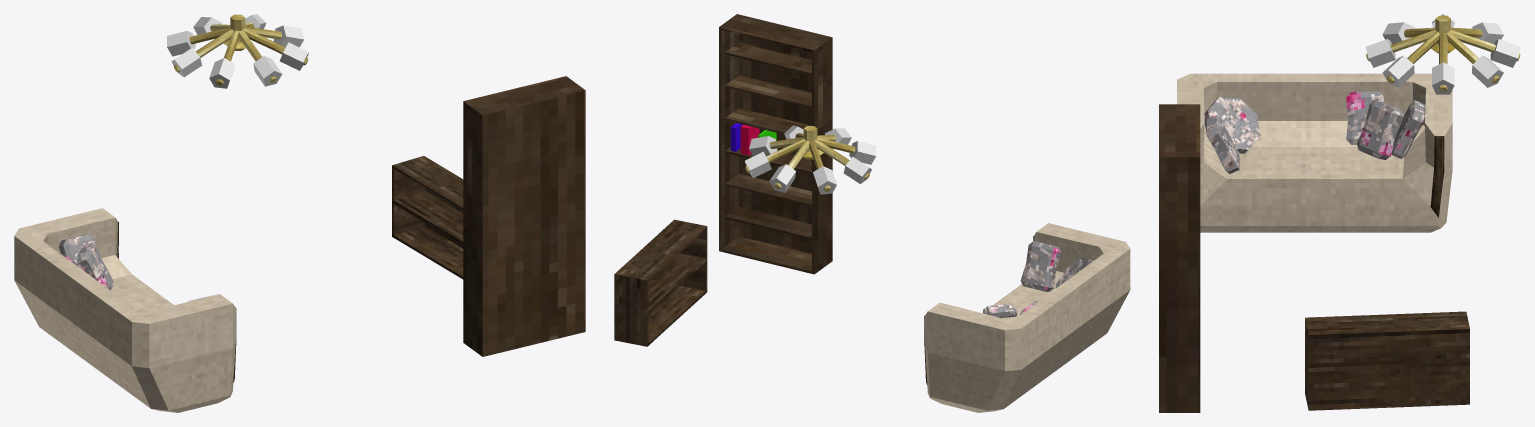
The model's file is GuestRoomProps.fbx.
The picture shows the model from 3 angles, left to right: view 1: azimuth 30°, elevation 25°; view 2: azimuth 150°, elevation 25°; view 3: azimuth 270°, elevation 25°; orthographic projection. The views are drawn at different scales.
Visible parts, largest first — view 1: Cube.024, Cube.030, Cube.026, LampBody.001; view 2: Cube.024, Cube.030, Cube.026, LampBody.001; view 3: Cube.030, Cube.026, Cube.024, LampBody.001.
Part boxes in pixels (<box>): Cube.024: <box>463,76,585,356</box>; Cube.030: <box>14,208,236,412</box>; Cube.026: <box>392,156,463,279</box>; LampBody.001: <box>167,14,308,88</box>; Cube.024: <box>719,14,832,274</box>; Cube.030: <box>924,223,1130,412</box>; Cube.026: <box>614,219,707,346</box>; LampBody.001: <box>745,125,876,194</box>; Cube.030: <box>1177,73,1452,232</box>; Cube.026: <box>1305,311,1469,410</box>; Cube.024: <box>1159,104,1200,412</box>; LampBody.001: <box>1365,14,1520,94</box>.
Bounding box in the file's own units: 389 × 227 × 262.
